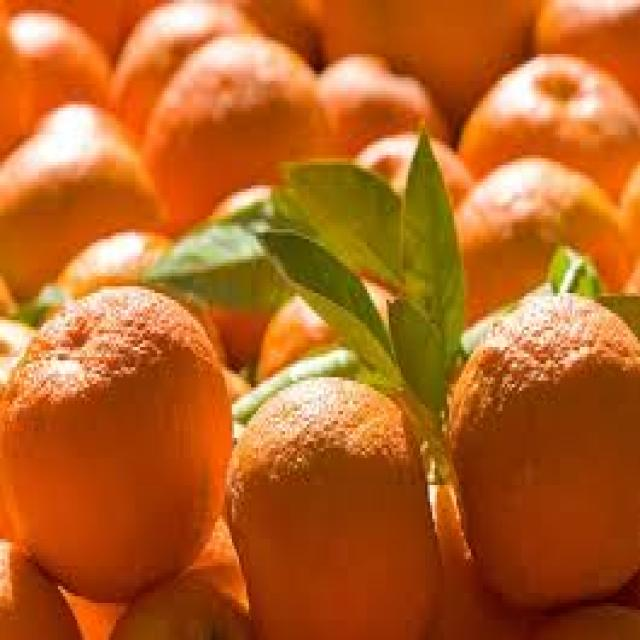orange: (0, 286, 234, 592), (449, 292, 637, 609), (223, 381, 437, 640), (144, 32, 328, 230), (0, 101, 157, 300), (455, 158, 631, 322), (462, 52, 636, 206), (111, 0, 259, 145)
